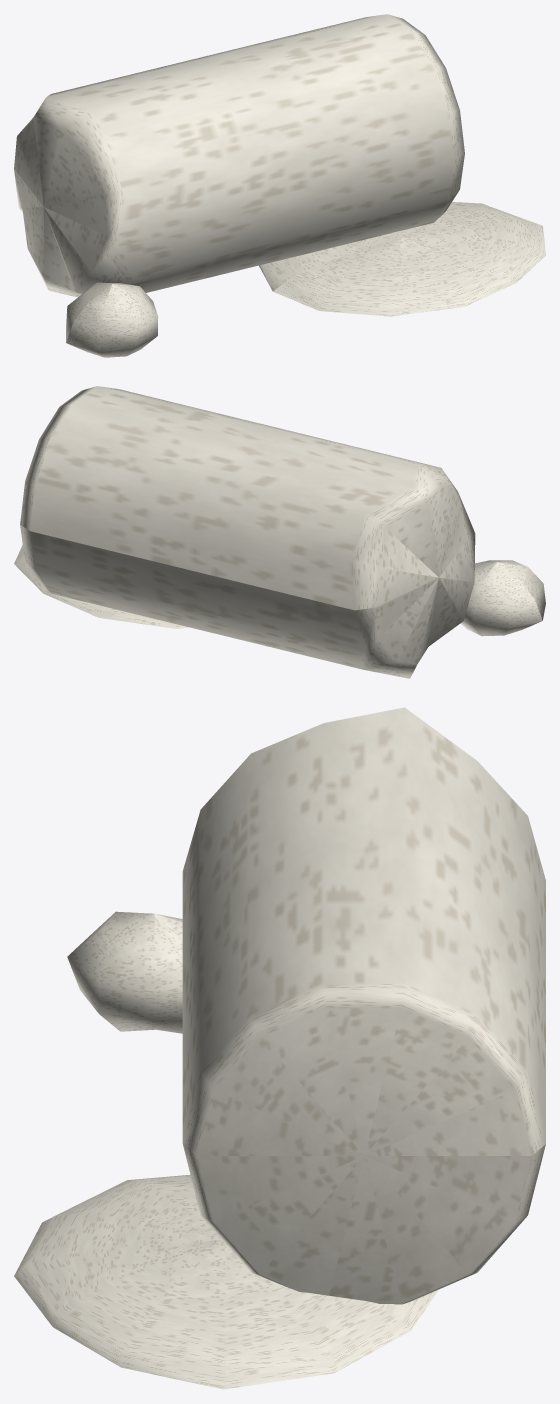
File: chalkstub.obj
3 views of the same model, one above another, from view 1: azimuth 30°, elevation 25°; view 2: azimuth 150°, elevation 25°; view 3: azimuth 270°, elevation 25° (orthographic). The views are drawn at different scales.
Visible parts, largest first — view 1: chalkstub_0_surface; view 2: chalkstub_0_surface; view 3: chalkstub_0_surface.
Part boxes in pixels (x1=…): chalkstub_0_surface: x1=14, y1=14, x2=545, y2=357; chalkstub_0_surface: x1=14, y1=386, x2=545, y2=678; chalkstub_0_surface: x1=14, y1=707, x2=545, y2=1389.
Size of the model in its own units: 0.1362 by 0.0514 by 0.0762.
1 material, 1 textured.
